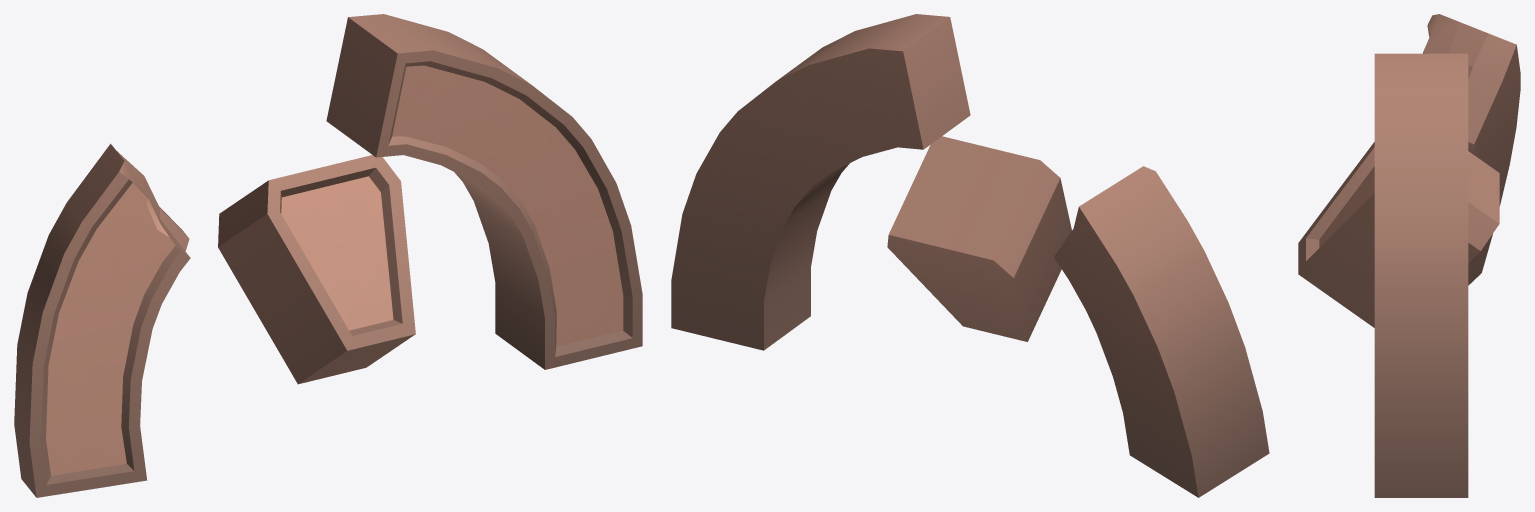
File: obj_Ruins.004.fbx
The picture shows the model from 3 angles, left to right: view 1: azimuth 30°, elevation 25°; view 2: azimuth 150°, elevation 25°; view 3: azimuth 270°, elevation 25°; orthographic projection. The views are drawn at different scales.
Parts seen in each view (by area): view 1: Cube.084; view 2: Cube.084; view 3: Cube.084.
Part boxes in pixels (bbox=[...]): Cube.084: bbox=[14, 14, 642, 497]; Cube.084: bbox=[671, 14, 1269, 497]; Cube.084: bbox=[1298, 14, 1520, 497].
Bounding box in the file's own units: 322 × 201 × 111.
